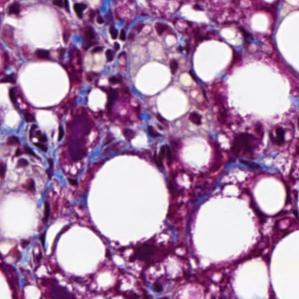inflammation: (23, 124, 68, 181), (83, 21, 127, 67)
